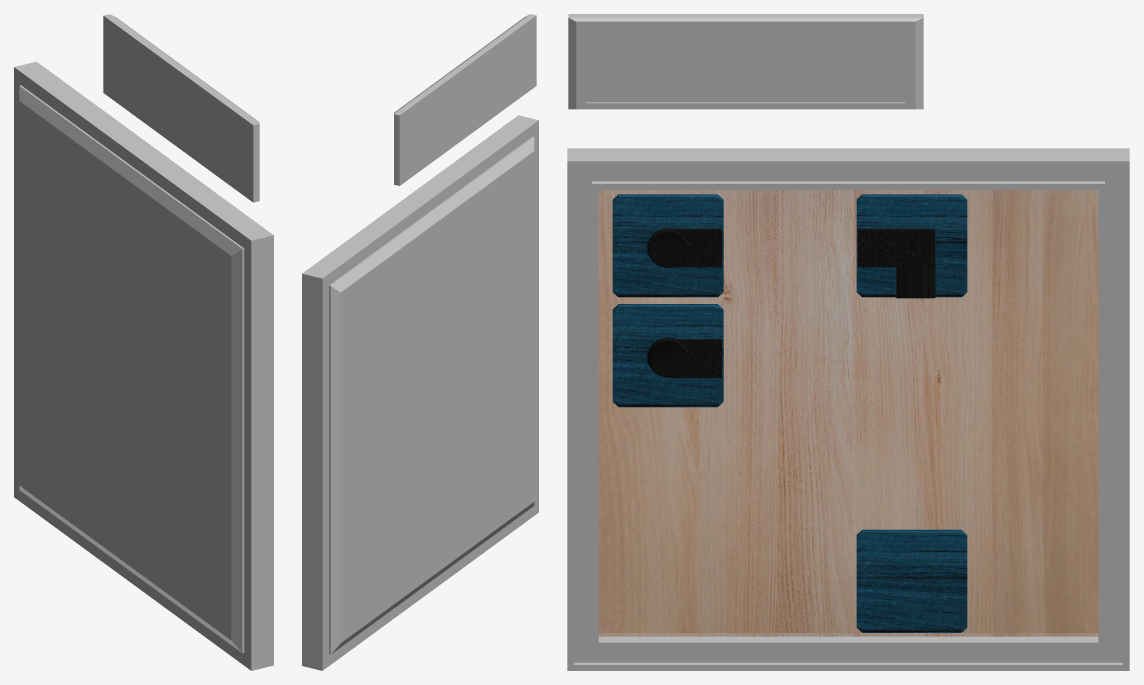
The model's file is Painel 1.fbx.
3 renders of one model, left to right at view 1: azimuth 30°, elevation 25°; view 2: azimuth 150°, elevation 25°; view 3: azimuth 270°, elevation 25°, orthographic. The views are drawn at different scales.
Parts seen in each view (by area): view 1: Cube.008; view 2: Cube.008; view 3: Cube.008.
Boxes of the visible parts, x1,y1,x2,y2 form: Cube.008: (14,14,273,670); Cube.008: (302,14,538,670); Cube.008: (567,14,1129,670).
Size of the model in its own units: 15.61 by 272 by 215.
